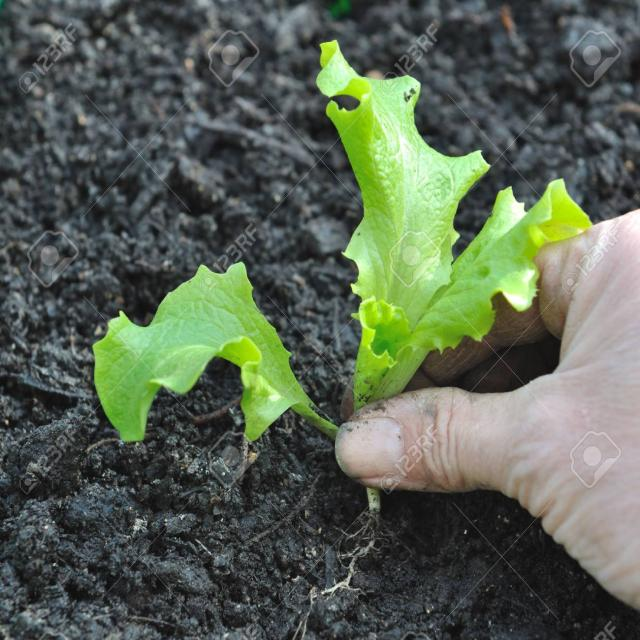verde: (317, 40, 590, 408), (94, 262, 337, 441)
